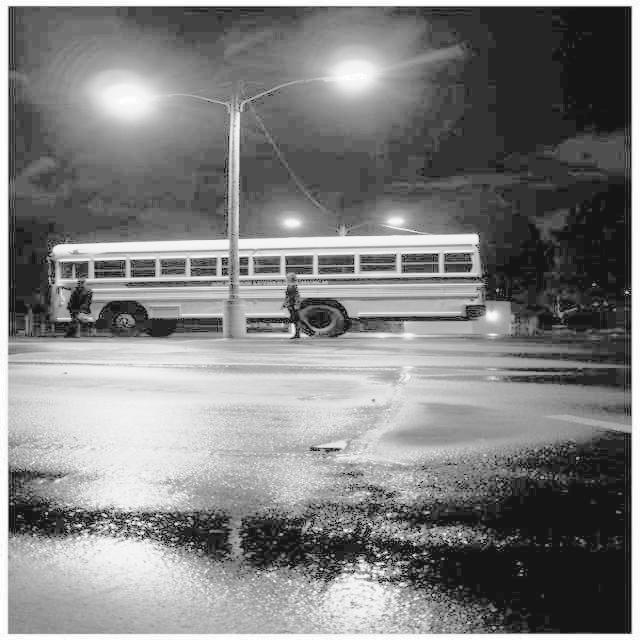Bus: (34, 223, 487, 338)
Person: (282, 268, 314, 340), (66, 274, 96, 341)
